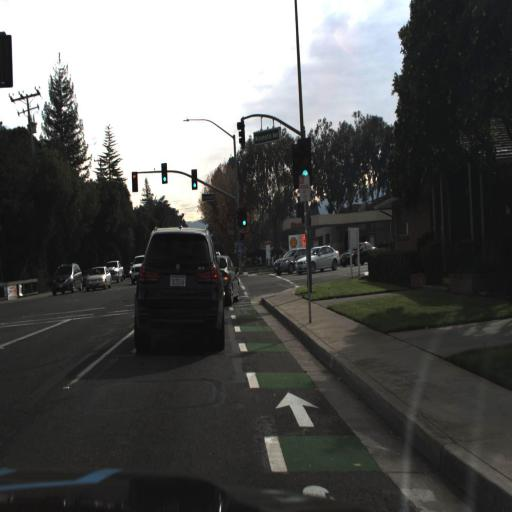car: (127, 216, 231, 361), (216, 246, 241, 310), (292, 244, 340, 275), (48, 259, 80, 299), (342, 241, 378, 265), (85, 262, 111, 294)
trafficLight: (130, 168, 138, 197)
trafficLight-Green: (296, 138, 314, 184), (190, 170, 198, 190), (160, 163, 167, 182), (240, 210, 247, 228)
